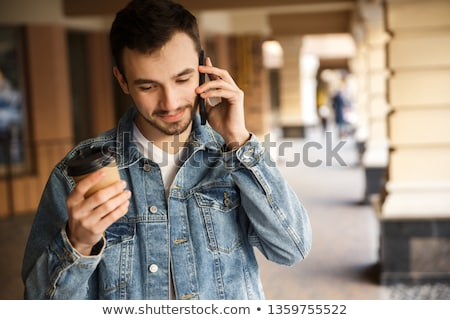phone: (193, 50, 232, 133)
talk: (132, 57, 248, 147)
